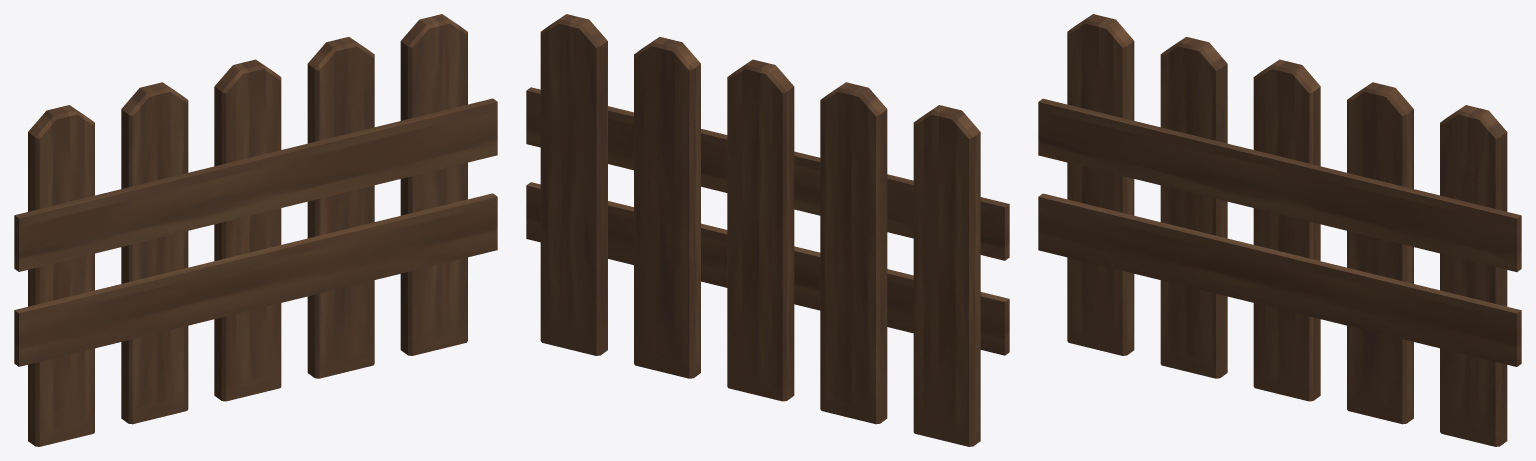
File: Fence.fbx
3 renders of one model, left to right at view 1: azimuth 30°, elevation 25°; view 2: azimuth 150°, elevation 25°; view 3: azimuth 330°, elevation 25°, orthographic.
Visible parts, largest first — view 1: Axis_06, Axis_07, Axis_04, Axis_03, Axis_02, Axis_05, Axis_01; view 2: Axis_02, Axis_03, Axis_05, Axis_01, Axis_04, Axis_06, Axis_07; view 3: Axis_07, Axis_06, Axis_02, Axis_01, Axis_05, Axis_03, Axis_04.
Part boxes in pixels (x1,y1,x2,y2): Axis_06: [14, 98, 497, 271]; Axis_07: [14, 193, 497, 366]; Axis_04: [307, 37, 374, 378]; Axis_03: [214, 59, 281, 401]; Axis_02: [121, 82, 188, 424]; Axis_05: [400, 14, 467, 355]; Axis_01: [28, 105, 94, 446]; Axis_02: [820, 82, 887, 424]; Axis_03: [727, 59, 794, 401]; Axis_05: [540, 14, 607, 355]; Axis_01: [913, 105, 980, 446]; Axis_04: [634, 37, 700, 378]; Axis_06: [526, 87, 1009, 260]; Axis_07: [526, 182, 1009, 355]; Axis_07: [1038, 193, 1521, 366]; Axis_06: [1038, 98, 1521, 271]; Axis_02: [1160, 37, 1227, 378]; Axis_01: [1067, 14, 1134, 355]; Axis_05: [1440, 105, 1507, 446]; Axis_03: [1253, 59, 1320, 401]; Axis_04: [1347, 82, 1413, 424].
Bounding box in the file's own units: 312 × 203 × 17.13.
